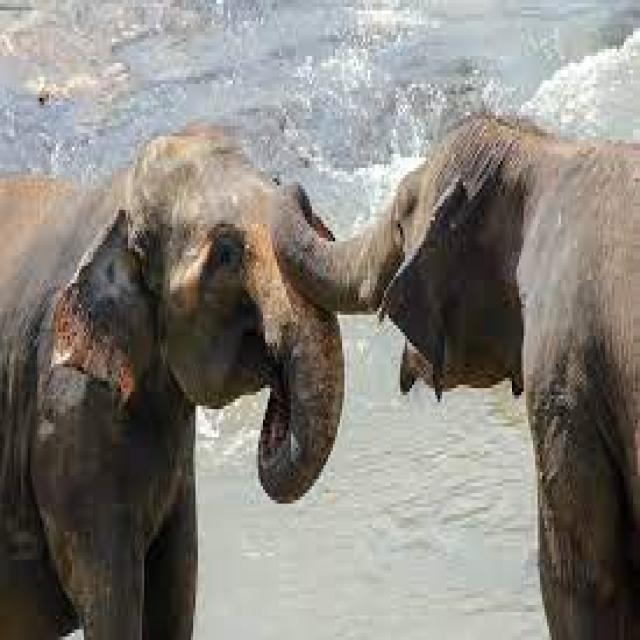Elephant: (268, 105, 638, 636), (0, 118, 344, 636)
